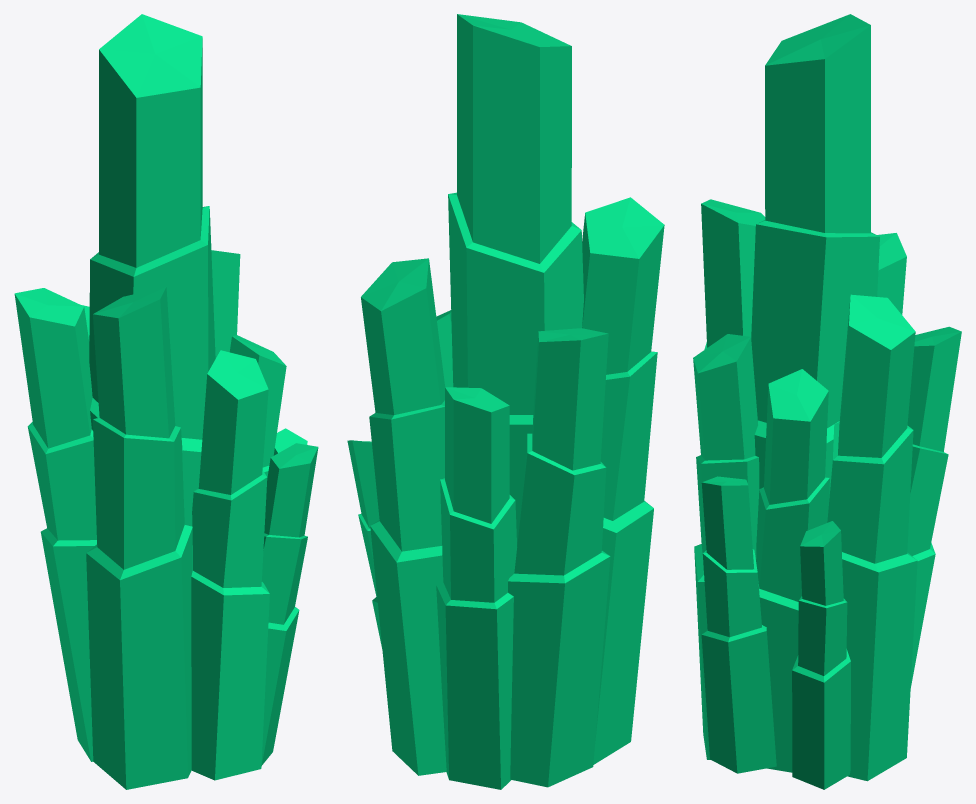
Rendered from cave_crystal_2.fbx.
3 renders of one model, left to right at view 1: azimuth 30°, elevation 25°; view 2: azimuth 150°, elevation 25°; view 3: azimuth 270°, elevation 25°, orthographic. The views are drawn at different scales.
Visible parts, largest first — view 1: cave_crystal_2; view 2: cave_crystal_2; view 3: cave_crystal_2.
Part boxes in pixels (x1=…): cave_crystal_2: x1=14, y1=14, x2=318, y2=789; cave_crystal_2: x1=347, y1=14, x2=664, y2=789; cave_crystal_2: x1=693, y1=14, x2=961, y2=789.
Bounding box in the file's own units: 0.8384 × 2.16 × 0.7323.
